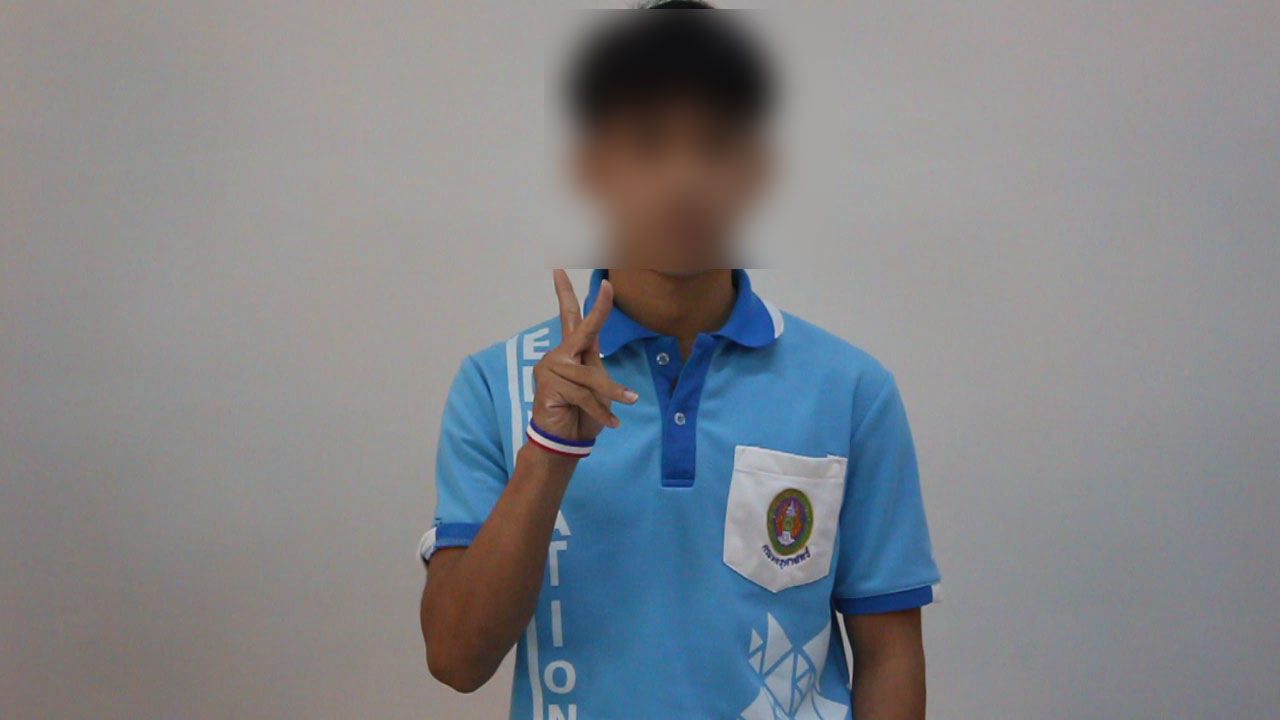ko: (504, 254, 638, 460)
